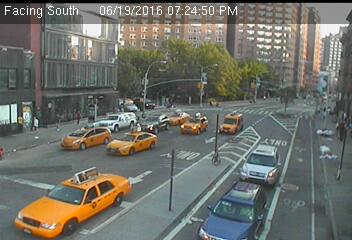neg: (224, 116, 249, 150), (174, 107, 194, 133), (135, 124, 149, 144)
pos: (72, 107, 86, 127), (29, 115, 42, 133)
